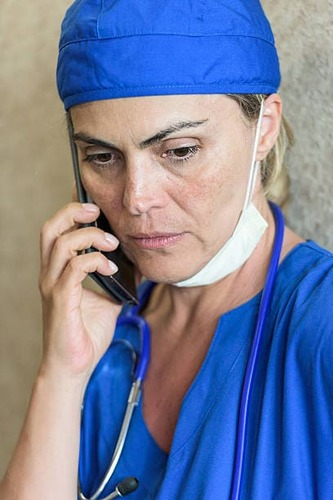with_incorrect_mask: (73, 106, 255, 288)
